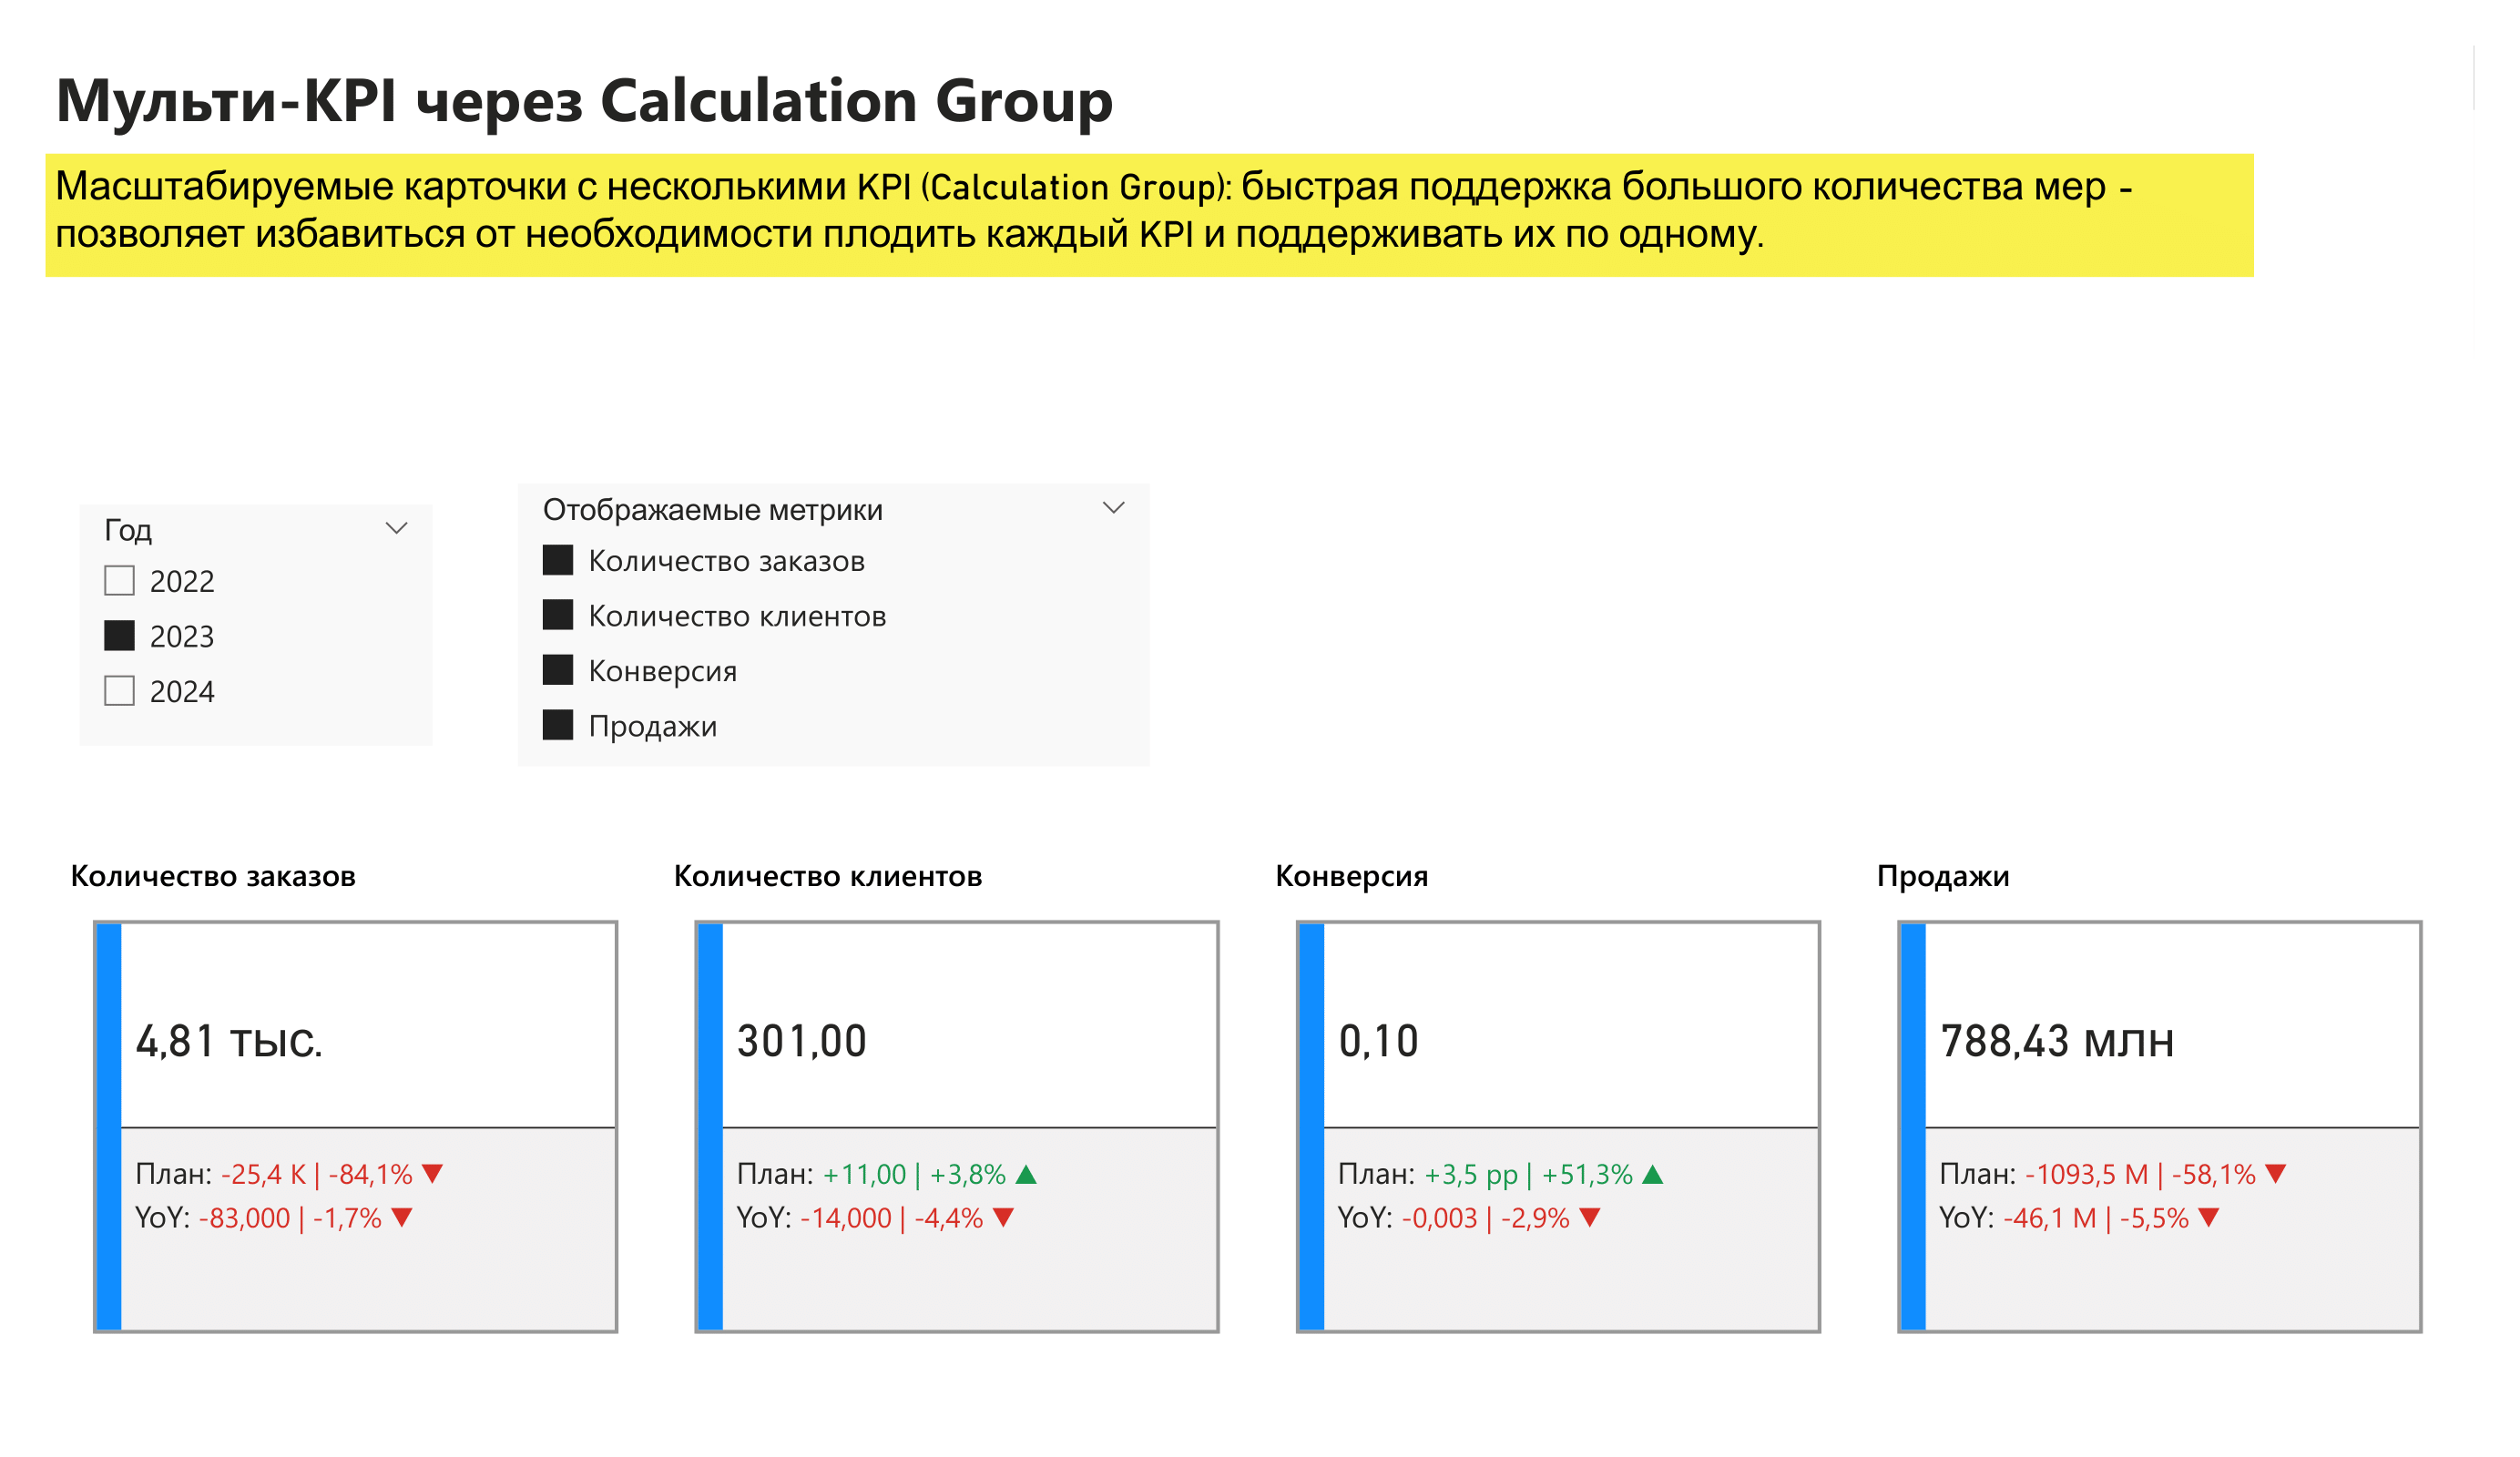

The dashboard page shown, as its layout file describes it:
{"tool":"powerbi","page":{"name":"Масштабируемые KPI","canvas":[1280,720],"ordinal":0},"visuals":[{"type":"cardVisual","title":"447","fields":{"Data":["_Меры._Dummy"],"Rows":["KPIs.Name"]},"box":[0,406.7,1280,277.8],"z":0},{"type":"slicer","fields":{"Values":["Календарь.Год"]},"box":[17.6,242.2,186.7,126.8],"z":1000},{"type":"slicer","fields":{"Values":["KPIs.Name"]},"box":[249.2,230.8,332.9,149.7],"z":2000},{"type":"textbox","box":[0,57.2,1164.3,64.3],"z":3000},{"type":"textbox","box":[0,0,702.8,57.2],"z":4000}]}

Visuals, with their boxes in screenshot pixels (x1, y1, x2, y2):
"447" cardVisual: left=46, top=817, right=2474, bottom=1344
slicer - Календарь.Год: left=79, top=505, right=434, bottom=746
slicer - KPIs.Name: left=518, top=484, right=1150, bottom=768
textbox: left=46, top=154, right=2255, bottom=276
textbox: left=46, top=46, right=1379, bottom=154
